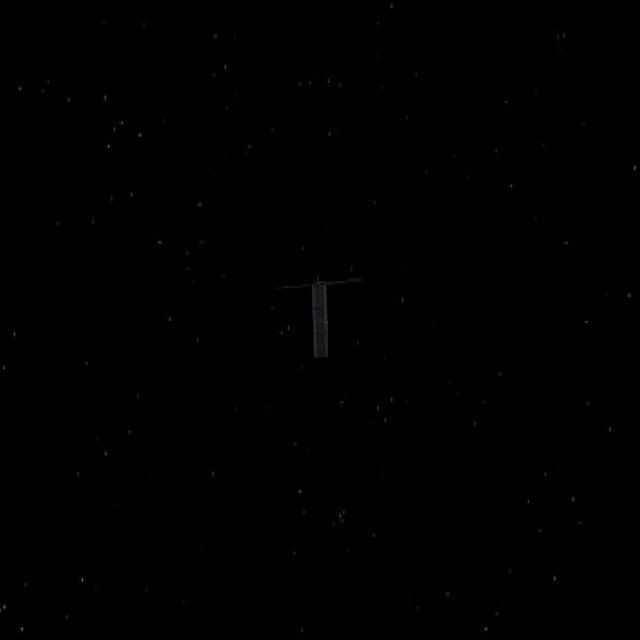satellite: (271, 264, 367, 366)
